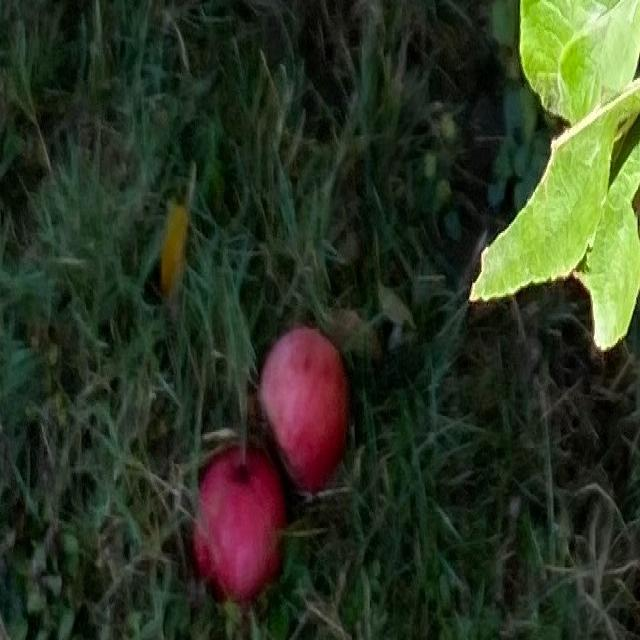100-_ripeness: (263, 331, 349, 485), (197, 455, 281, 603)
